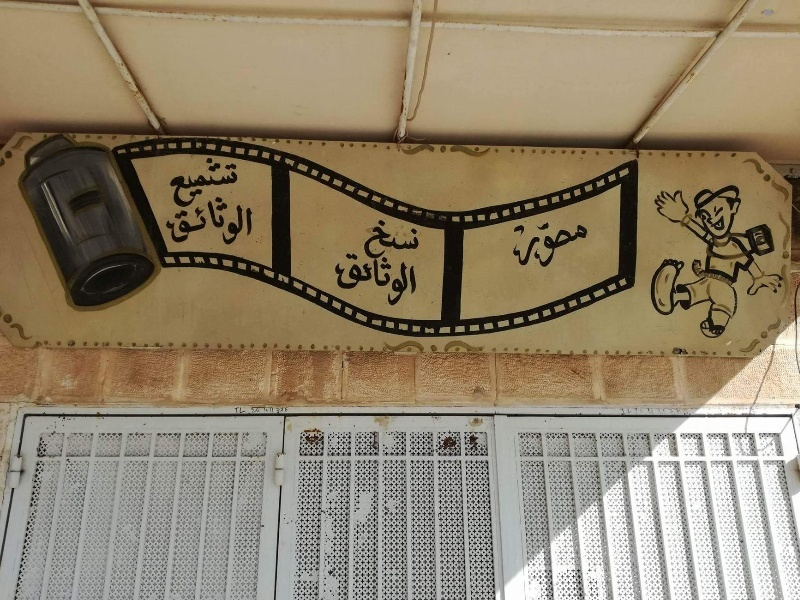text: (513, 216, 528, 286), (529, 216, 544, 286), (545, 216, 560, 286), (561, 216, 576, 286), (353, 248, 368, 313), (369, 248, 384, 313), (385, 248, 400, 313), (401, 248, 416, 313), (161, 155, 176, 214), (177, 155, 192, 214), (193, 155, 208, 214), (209, 155, 224, 214), (225, 155, 240, 214), (577, 216, 589, 286), (161, 194, 176, 246), (177, 194, 192, 246), (193, 194, 208, 246), (209, 194, 224, 246), (225, 194, 240, 246), (385, 217, 400, 264), (401, 217, 416, 264), (241, 194, 254, 246), (344, 248, 352, 313), (417, 248, 424, 313), (375, 217, 384, 264), (506, 216, 512, 286), (241, 155, 247, 214), (417, 217, 423, 264), (276, 407, 288, 414), (263, 408, 272, 414), (234, 408, 240, 414), (241, 408, 246, 414), (251, 408, 256, 413), (257, 408, 260, 413), (270, 407, 272, 413), (273, 407, 274, 413)
